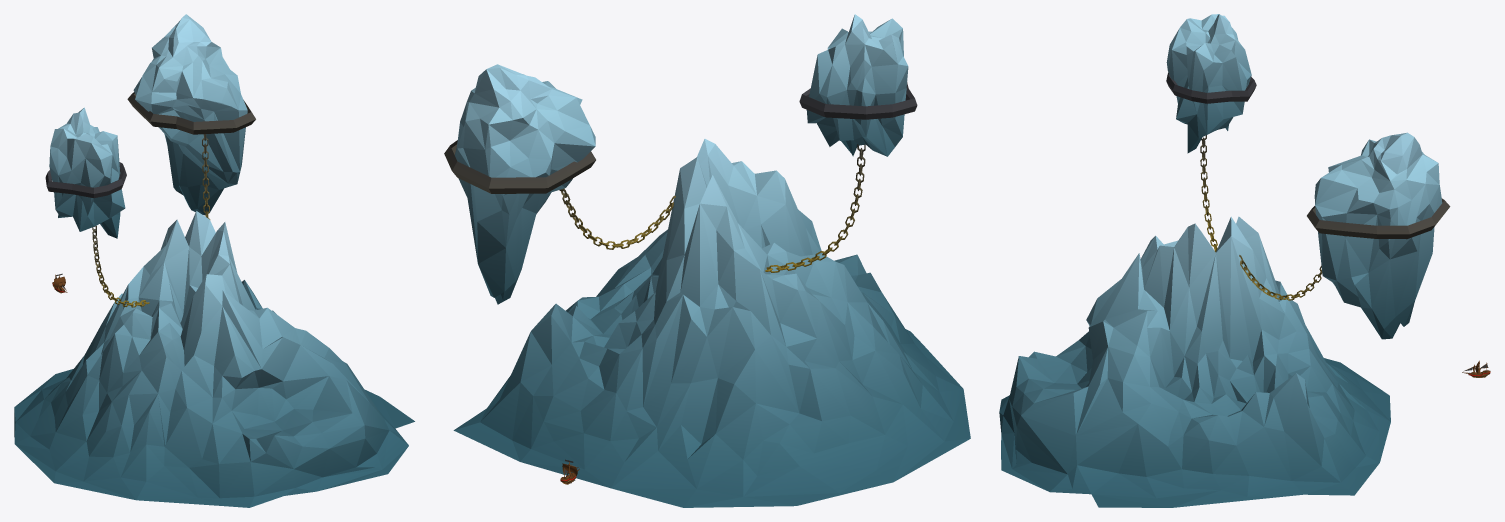
Rendered from Island With Ship.fbx.
The picture shows the model from 3 angles, left to right: view 1: azimuth 30°, elevation 25°; view 2: azimuth 150°, elevation 25°; view 3: azimuth 270°, elevation 25°; orthographic projection. The views are drawn at different scales.
Parts seen in each view (by area): view 1: Flying_Glaciers_Island.003; view 2: Flying_Glaciers_Island.003; view 3: Flying_Glaciers_Island.003.
Boxes of the visible parts, x1,y1,x2,y2 form: Flying_Glaciers_Island.003: [14, 14, 414, 507]; Flying_Glaciers_Island.003: [444, 14, 970, 507]; Flying_Glaciers_Island.003: [999, 14, 1450, 507].
Size of the model in its own units: 9320 by 9056 by 11366.
